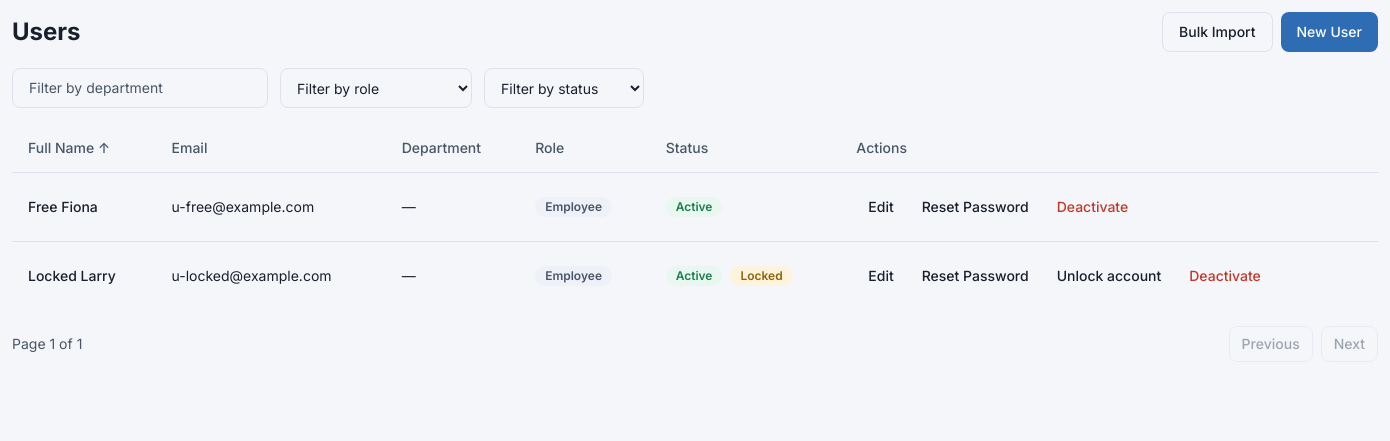
it: UsersListPage unlock action (FR-BB115 AC-8) › shows the localized not-allowed message when unlock is forbidden
The width and height of the screenshot is (1390, 441).
Expected: the text "Locked Larry" is shown, x1=12 y1=241 x2=156 y2=310
Click the button "Unlock account": (1109, 276) x1=1045 y1=258 x2=1173 y2=294
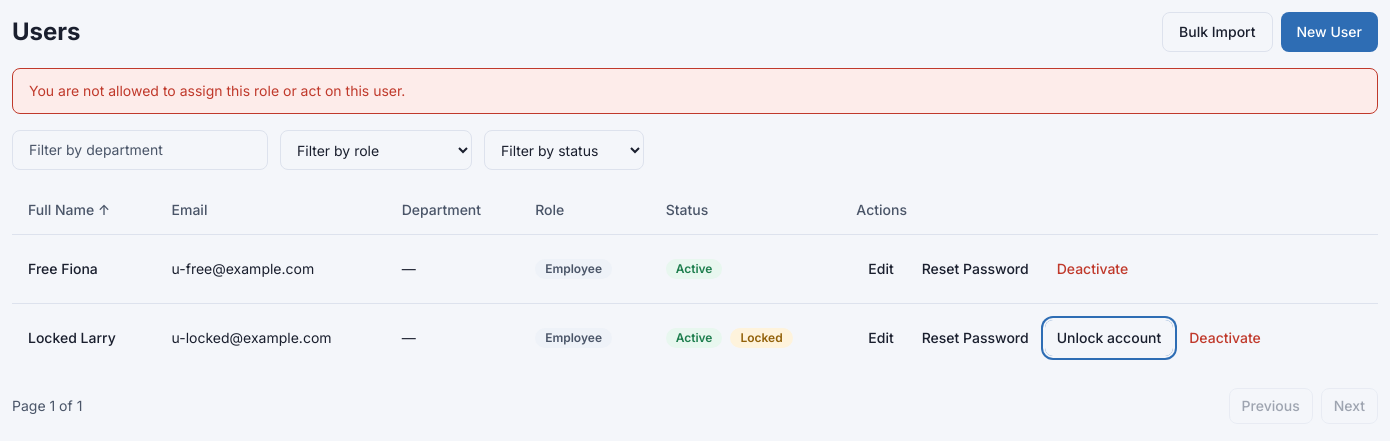
Now the message shows "not allowed", box x1=29 y1=82 x2=405 y2=99
